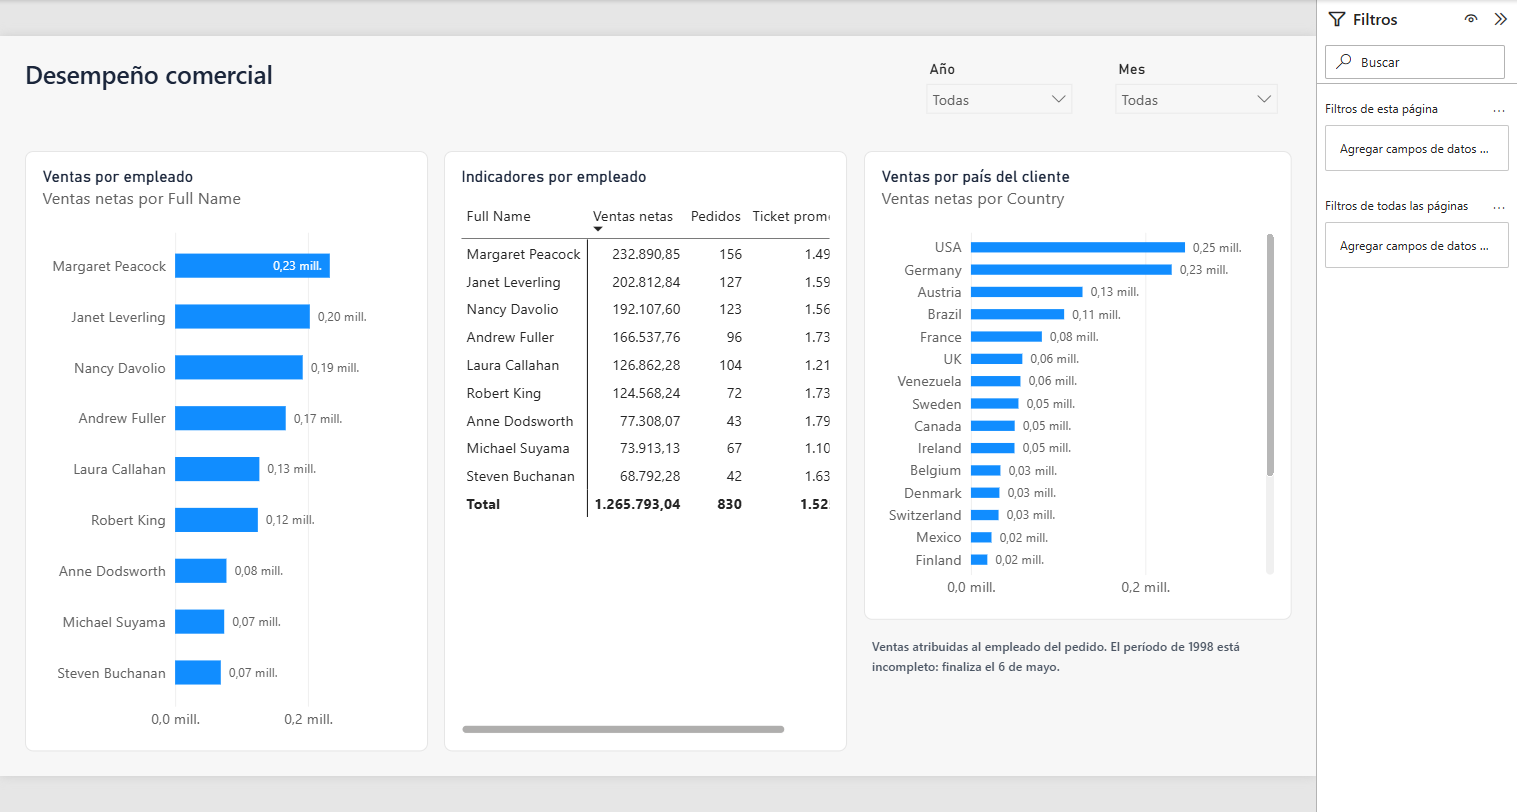

Layout of this report page (visuals, bound fields, positions):
{"tool":"powerbi","page":{"name":"Desempeño comercial","canvas":[1280,720],"ordinal":3},"visuals":[{"type":"textbox","box":[24,20,560,52],"z":1},{"type":"slicer","fields":{"Values":["Date.CalendarYear"]},"box":[888,16,168,80],"z":2},{"type":"slicer","fields":{"Values":["Date.MonthName"]},"box":[1072,16,184,80],"z":3},{"type":"barChart","title":"Ventas por empleado","fields":{"Category":["Employee.Full Name"],"Y":["FactSales.Ventas netas"]},"box":[24,112,392,584],"z":4},{"type":"pivotTable","title":"Indicadores por empleado","fields":{"Rows":["Employee.Full Name"],"Values":["FactSales.Ventas netas","FactSales.Pedidos","FactSales.Ticket promedio"]},"box":[432,112,392,584],"z":5},{"type":"barChart","title":"Ventas por país del cliente","fields":{"Category":["Customer.Country"],"Y":["FactSales.Ventas netas"]},"box":[840,112,416,456],"z":6},{"type":"textbox","box":[848,584,400,88],"z":7}]}

Visuals, with their boxes on the page's 1280x720 design canvas (x1, y1, x2, y2). These are canvas units, not pixel positions in the 1517x812 screenshot, which may show the page scaled, cropped or inside an application window:
textbox: rect(24, 20, 584, 72)
slicer - Date.CalendarYear: rect(888, 16, 1056, 96)
slicer - Date.MonthName: rect(1072, 16, 1256, 96)
"Ventas por empleado" barChart: rect(24, 112, 416, 696)
"Indicadores por empleado" pivotTable: rect(432, 112, 824, 696)
"Ventas por país del cliente" barChart: rect(840, 112, 1256, 568)
textbox: rect(848, 584, 1248, 672)
